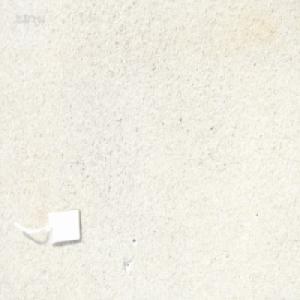LuggageTag: (14, 206, 84, 248)
